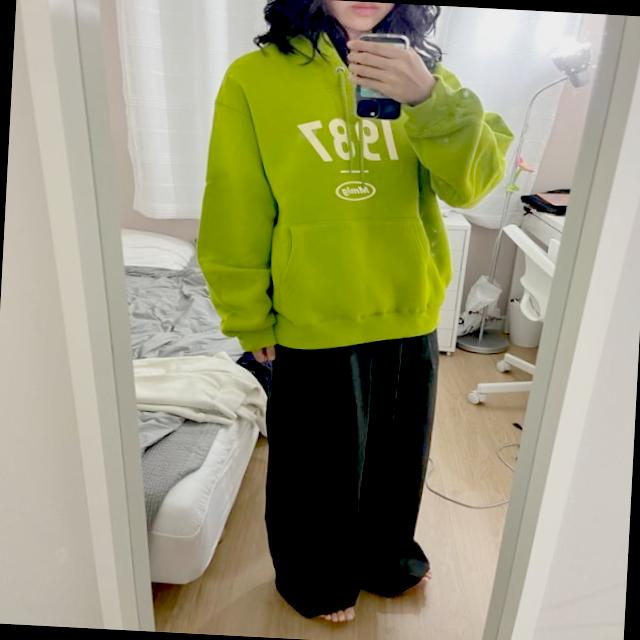hoodies: (190, 19, 512, 358)
slacks: (256, 314, 444, 622)
